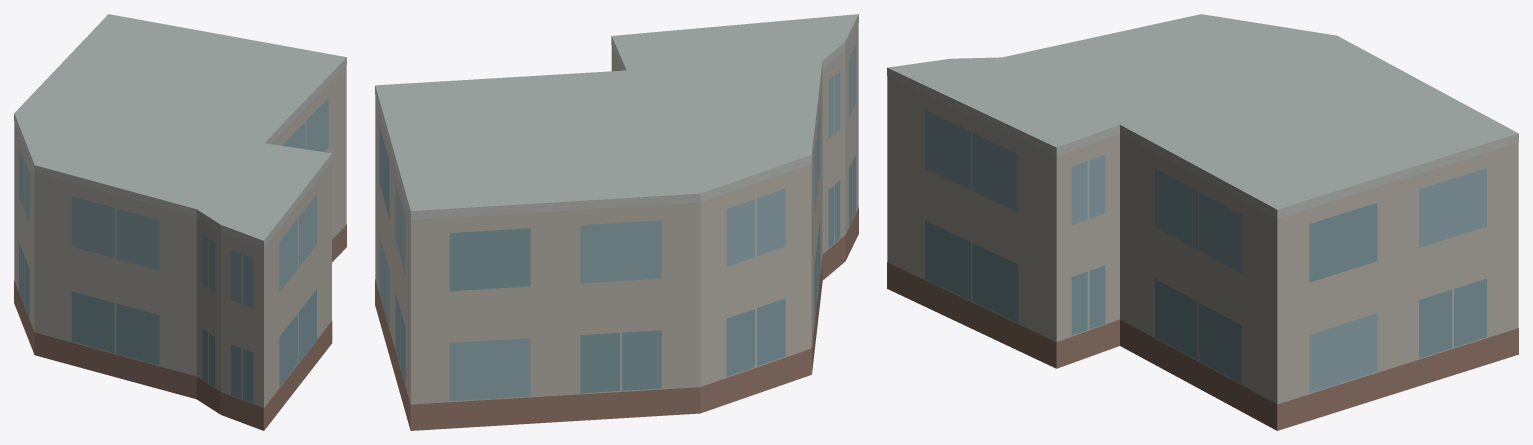
Rendered from survey-upis-32753082.glb.
3 renders of one model, left to right at view 1: azimuth 30°, elevation 25°; view 2: azimuth 150°, elevation 25°; view 3: azimuth 270°, elevation 25°, orthographic. The views are drawn at different scales.
Visible parts, largest first — view 1: survey-upis-32753082.tmp; view 2: survey-upis-32753082.tmp; view 3: survey-upis-32753082.tmp.
Boxes of the visible parts, x1,y1,x2,y2 form: survey-upis-32753082.tmp: [14, 14, 346, 430]; survey-upis-32753082.tmp: [375, 14, 858, 430]; survey-upis-32753082.tmp: [887, 14, 1518, 430].
Bounding box in the file's own units: 11.59 × 6.1 × 15.8.
